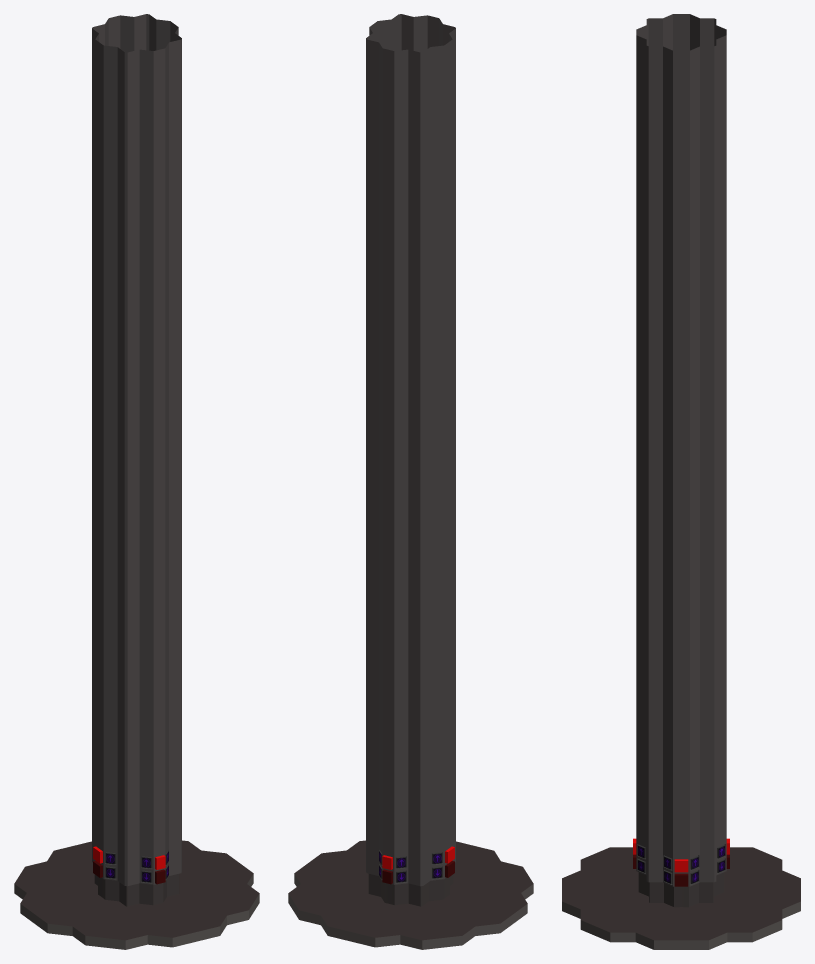
The model's file is Arena_platform.fbx.
3 renders of one model, left to right at view 1: azimuth 30°, elevation 25°; view 2: azimuth 150°, elevation 25°; view 3: azimuth 270°, elevation 25°, orthographic.
Parts seen in each view (by area): view 1: platform; view 2: platform; view 3: platform.
Part boxes in pixels (bbox=[...]): platform: bbox=[14, 14, 259, 949]; platform: bbox=[288, 14, 533, 949]; platform: bbox=[562, 14, 800, 949].
Size of the model in its own units: 1256 by 5033 by 1256.
